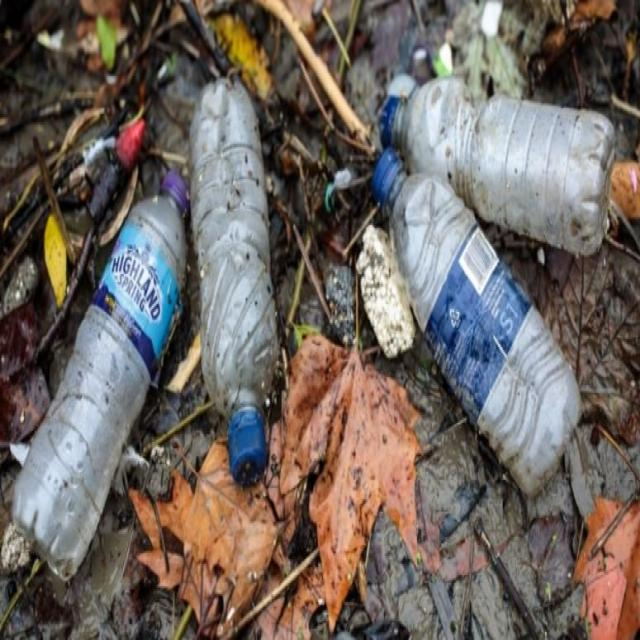plastic: (12, 144, 190, 583), (376, 138, 592, 498), (376, 62, 622, 265), (187, 61, 289, 502)
